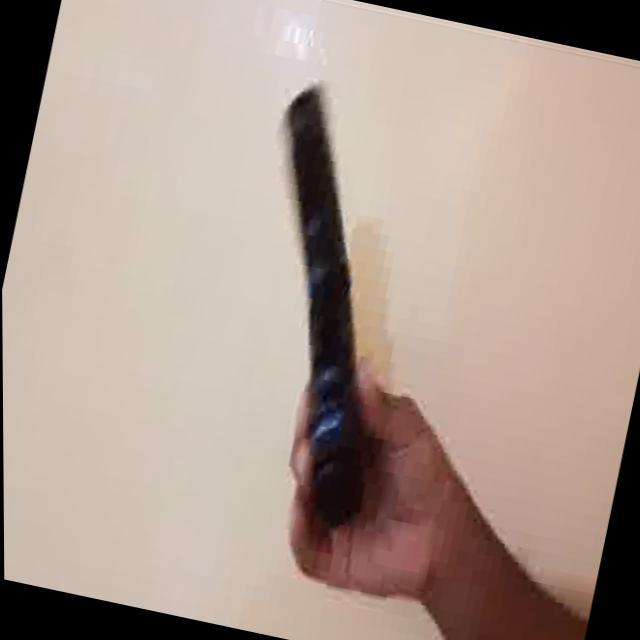weapon: (202, 75, 451, 534)
